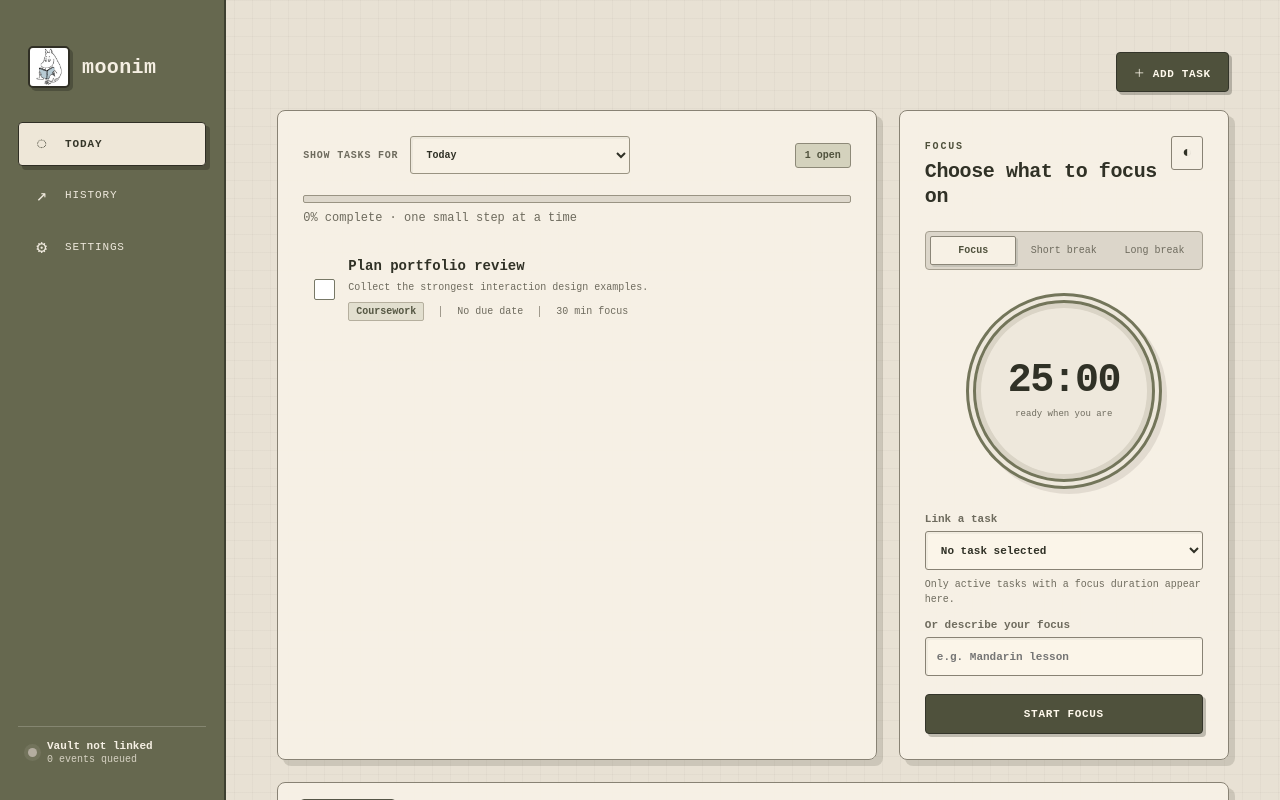
moonim renderer layout and theme › opens a task detail popup with its description and edit/delete actions
Click the button with aria-label "open plan portfolio review" at (530, 289), box [348,258,711,320]
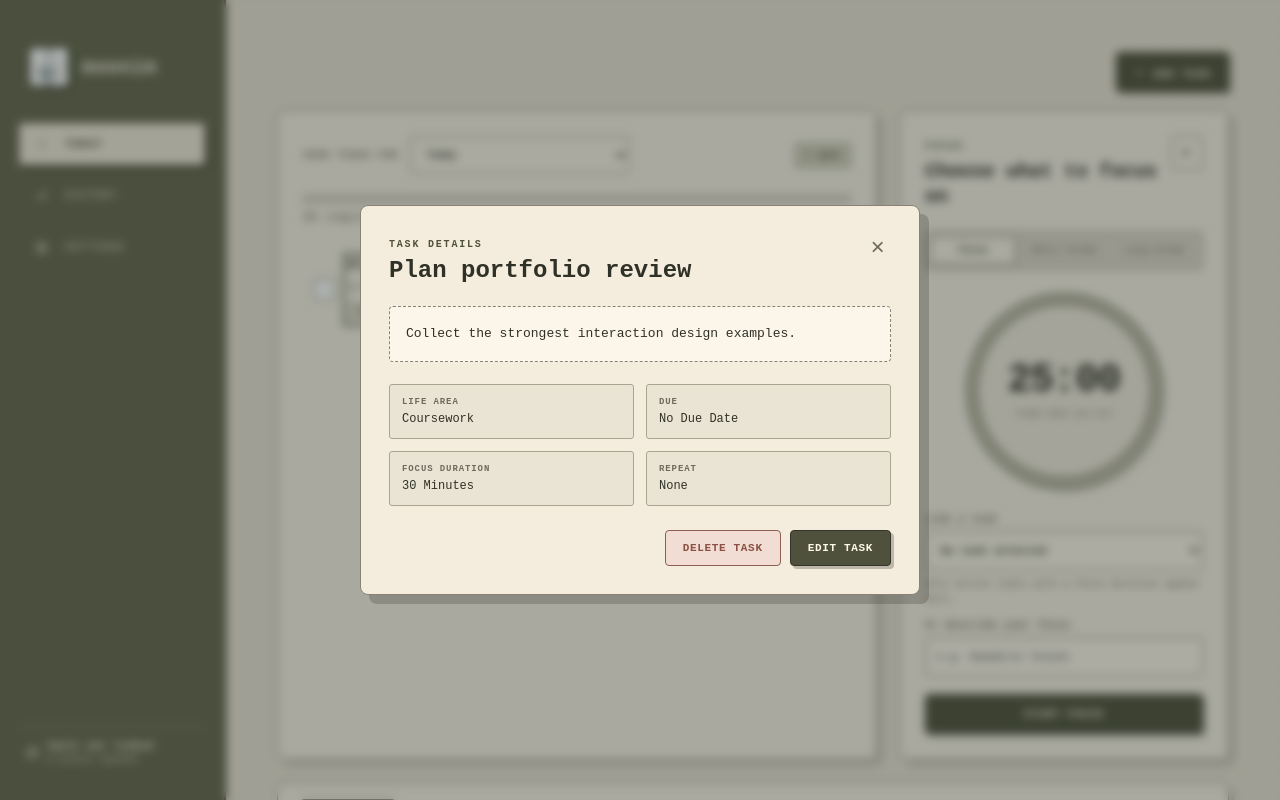
Expected: the dialog "Plan portfolio review" shows "Collect the strongest interaction design examples.", [406,326,796,341]
Expected: the button "Edit task" is shown, [790,530,891,566]
Expected: the button "Delete task" is shown, [665,530,781,566]
